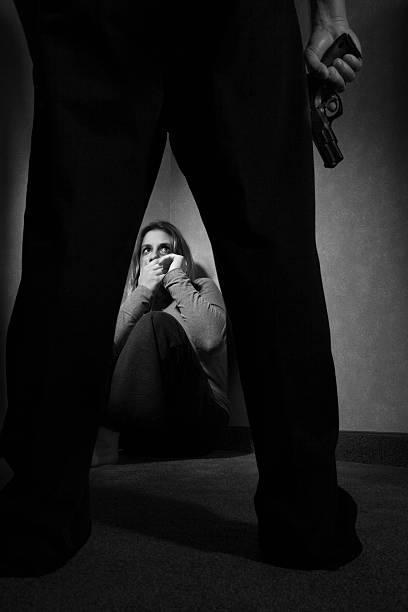weapon: (287, 25, 369, 170)
